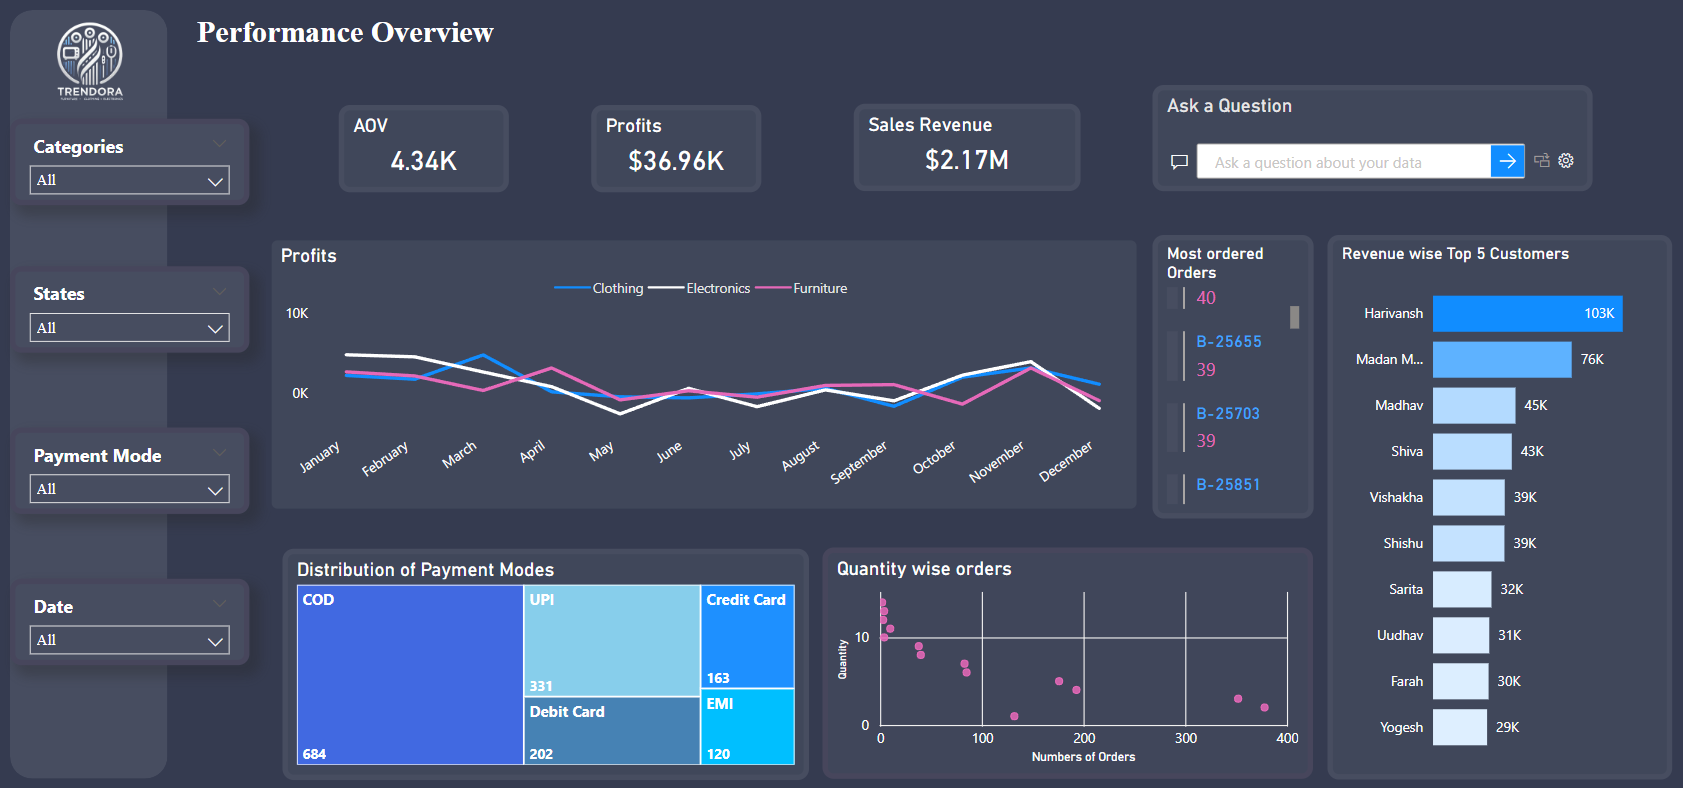

Layout of this report page (visuals, bound fields, positions):
{"tool":"powerbi","page":{"name":"Page 1","canvas":[1500,720],"ordinal":0},"visuals":[{"type":"shape","box":[13.7,17.8,140,683.4],"z":0},{"type":"slicer","fields":{"Values":["Details.Category","Details.Sub-Category"]},"box":[13.7,113.9,212.7,76.8],"z":1000},{"type":"slicer","fields":{"Values":["Details.PaymentMode"]},"box":[13.5,388.9,212.8,77],"z":2000},{"type":"slicer","fields":{"Values":["Orders (2).State","Orders (2).City"]},"box":[13.5,245.8,212.8,77],"z":3000},{"type":"slicer","fields":{"Values":["Orders (2).Order Date.Variation.Date Hierarchy.Year","Orders (2).Order Date.Variation.Date Hierarchy.Quarter","Orders (2).Order Date.Variation.Date Hierarchy.Month","Orders (2).Order Date.Variation.Date Hierarchy.Day"]},"box":[13.5,523.4,212.8,77],"z":4000},{"type":"lineChart","title":"Profits","fields":{"Y":["Sum(Details.Profit)"],"Category":["Orders (2).Order Date.Variation.Date Hierarchy.Year","Orders (2).Order Date.Variation.Date Hierarchy.Quarter","Orders (2).Order Date.Variation.Date Hierarchy.Month","Orders (2).Order Date.Variation.Date Hierarchy.Day"],"Series":["Details.Category"]},"box":[241.2,218,778.1,248],"z":5000},{"type":"multiRowCard","title":"Most ordered Orders","fields":{"Values":["Sum(Details.Quantity)","Orders (2).Order ID"]},"box":[1028.8,218,143.1,252.1],"z":6000},{"type":"treemap","title":"Distribution of Payment Modes","fields":{"Group":["Details.PaymentMode"],"Values":["CountNonNull(Details.Order ID)"]},"box":[255.6,496.5,468.3,205.4],"z":7000},{"type":"scatterChart","title":"Quantity wise orders","fields":{"X":["Details.Order ID"],"Y":["Details.Quantity"]},"box":[735.8,496,436,205.8],"z":8000},{"type":"image","box":[35.5,18.3,94.2,92.9],"z":9000},{"type":"textbox","box":[174.3,17.8,318.4,46.7],"z":10000},{"type":"card","title":"AOV","fields":{"Values":["Details.AOV"]},"box":[305.2,102.2,151.3,77.7],"z":11000},{"type":"barChart","title":"Revenue wise Top 5 Customers","fields":{"Y":["Details.Revenue"],"Category":["Orders (2).CustomerName"]},"box":[1184.1,218,306.6,483.7],"z":12000},{"type":"card","title":"Profits","fields":{"Values":["Sum(Details.Profit)"]},"box":[530.1,102.2,151.3,77.7],"z":12001},{"type":"qnaVisual","title":"Ask a Question","box":[1028.4,84.4,391.3,94.2],"z":12002},{"type":"card","title":"Sales Revenue","fields":{"Values":["Details.Revenue"]},"box":[763.1,100.8,201.7,77.7],"z":12003}]}

Visuals, with their boxes in screenshot pixels (x1, y1, x2, y2), scaled from the page's 1500x720 canvas onto the 1683x788 screenshot:
shape: [15, 19, 172, 767]
slicer - Details.Category x Details.Sub-Category: [15, 125, 254, 209]
slicer - Details.PaymentMode: [15, 426, 254, 510]
slicer - Orders (2).State x Orders (2).City: [15, 269, 254, 353]
slicer - Orders (2).Order Date.Variation.Date Hierarchy.Year x Orders (2).Order Date.Variation.Date Hierarchy.Quarter: [15, 573, 254, 657]
"Profits" lineChart: [271, 239, 1144, 510]
"Most ordered Orders" multiRowCard: [1154, 239, 1315, 514]
"Distribution of Payment Modes" treemap: [287, 543, 812, 768]
"Quantity wise orders" scatterChart: [826, 543, 1315, 768]
image: [40, 20, 146, 122]
textbox: [196, 19, 553, 71]
"AOV" card: [342, 112, 512, 197]
"Revenue wise Top 5 Customers" barChart: [1329, 239, 1673, 768]
"Profits" card: [595, 112, 765, 197]
"Ask a Question" qnaVisual: [1154, 92, 1593, 195]
"Sales Revenue" card: [856, 110, 1083, 195]
